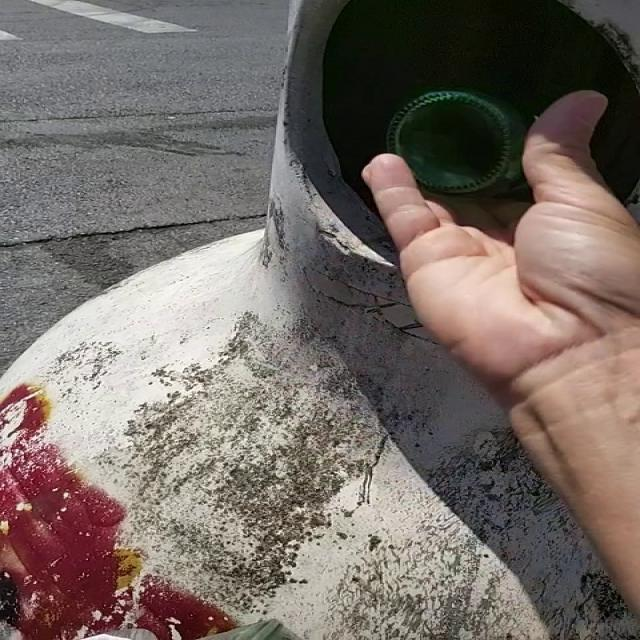Glass: (387, 88, 531, 200)
